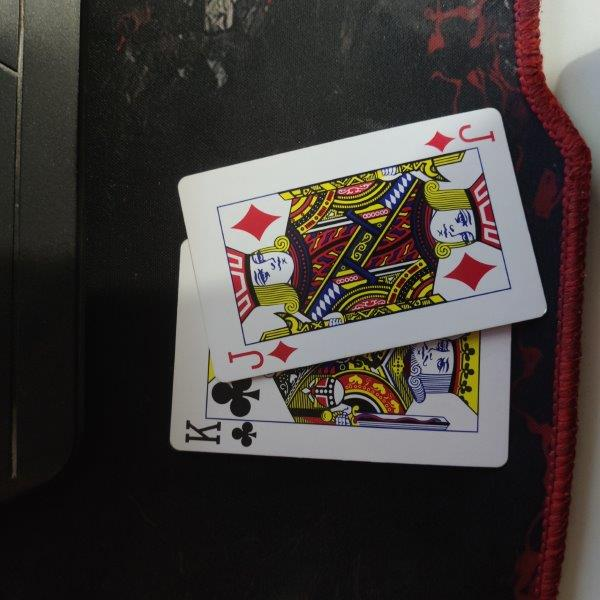Jack of Diamonds: (176, 107, 548, 383)
King of Clubs: (169, 240, 511, 469)
